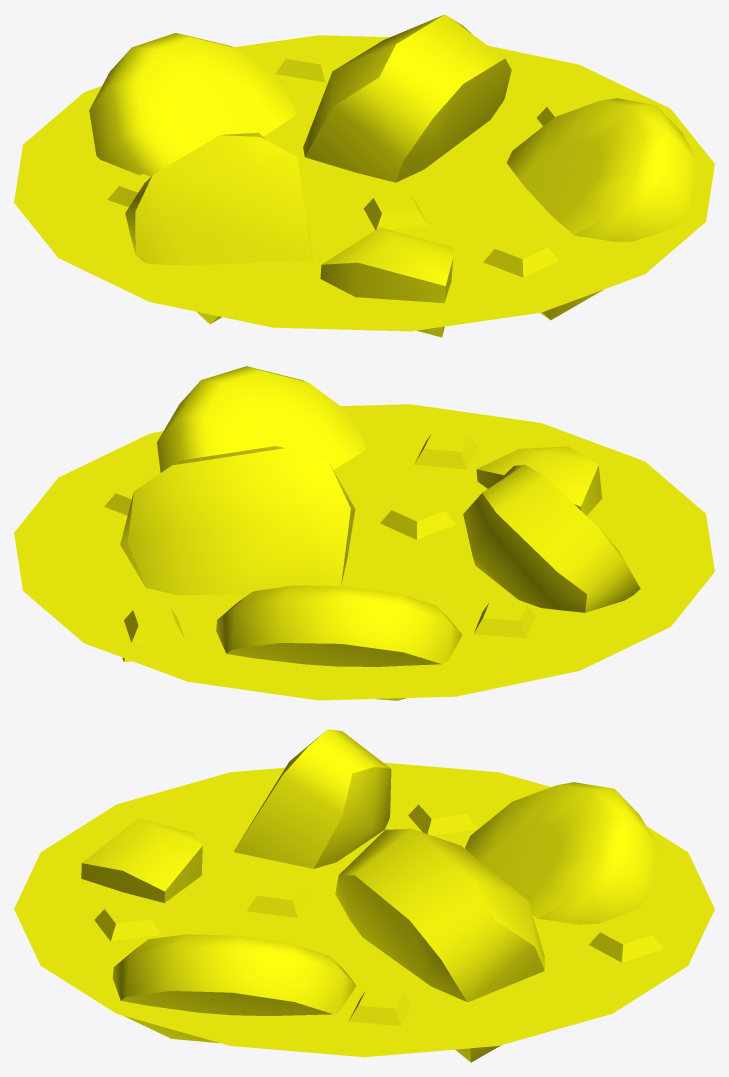
The model's file is kaykit-stew-bowl.glb.
3 renders of one model, top to bottom at view 1: azimuth 30°, elevation 25°; view 2: azimuth 150°, elevation 25°; view 3: azimuth 270°, elevation 25°, orthographic.
Visible parts, largest first — view 1: stew_bowl; view 2: stew_bowl; view 3: stew_bowl.
Boxes of the visible parts, x1=… form: stew_bowl: x1=14, y1=14, x2=714, y2=337; stew_bowl: x1=14, y1=366, x2=714, y2=700; stew_bowl: x1=14, y1=729, x2=714, y2=1062.
Bounding box in the file's own units: 0.7854 × 0.25 × 0.7854.
